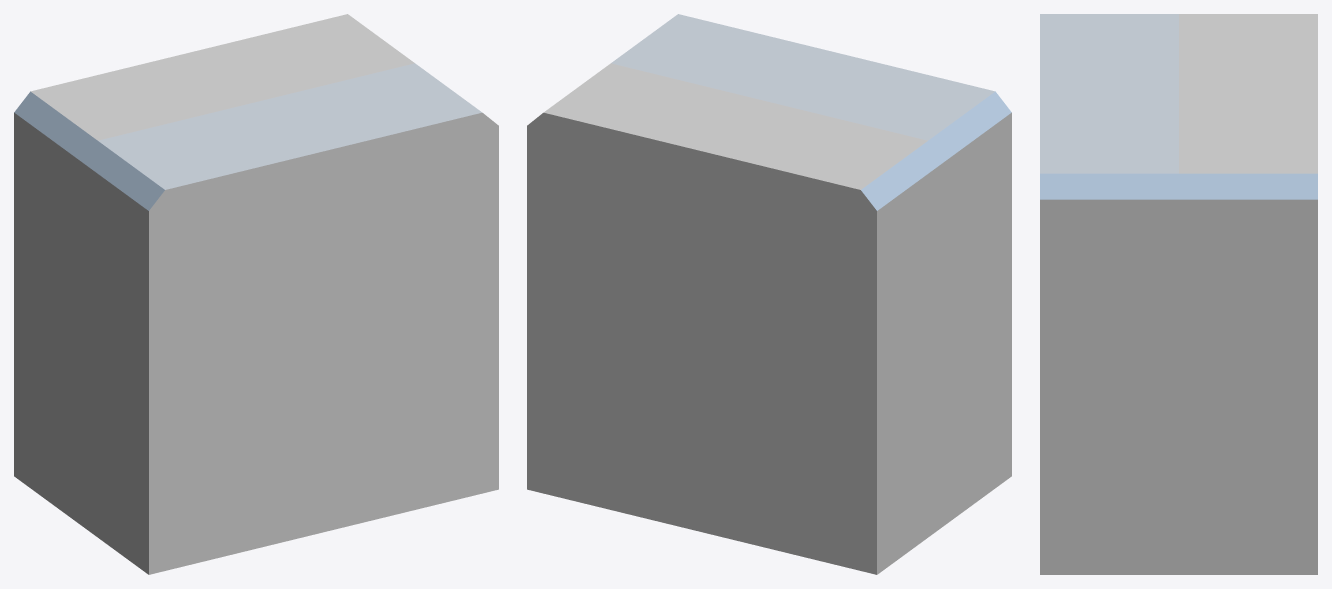
The model's file is Path01.fbx.
3 renders of one model, left to right at view 1: azimuth 30°, elevation 25°; view 2: azimuth 150°, elevation 25°; view 3: azimuth 270°, elevation 25°, orthographic. The views are drawn at different scales.
Parts seen in each view (by area): view 1: Path_01; view 2: Path_01; view 3: Path_01.
Part boxes in pixels (bbox=[...]): Path_01: bbox=[14, 14, 498, 574]; Path_01: bbox=[527, 14, 1011, 574]; Path_01: bbox=[1040, 14, 1317, 574].
Size of the model in its own units: 300 by 312 by 200.
